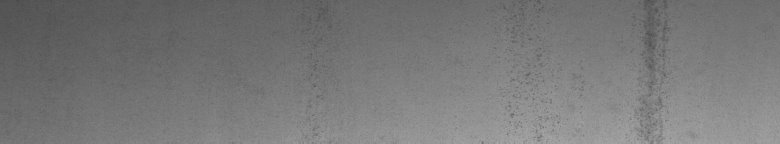ib: (498, 55, 559, 132)
